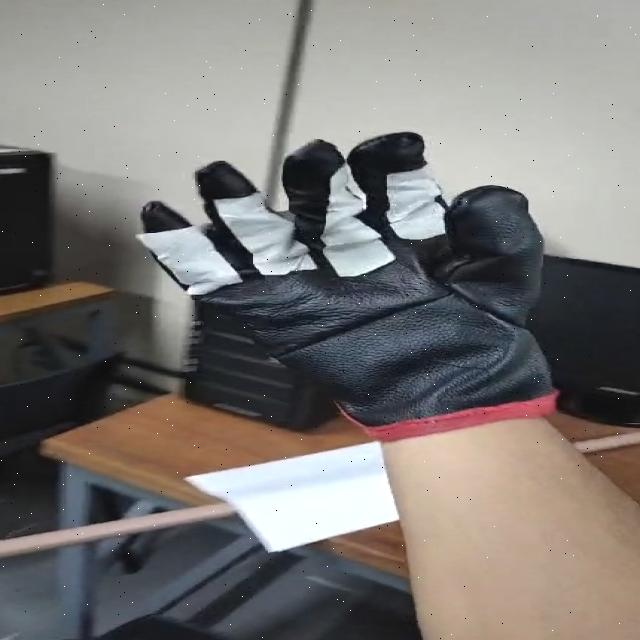Gloves: (146, 123, 562, 445)
